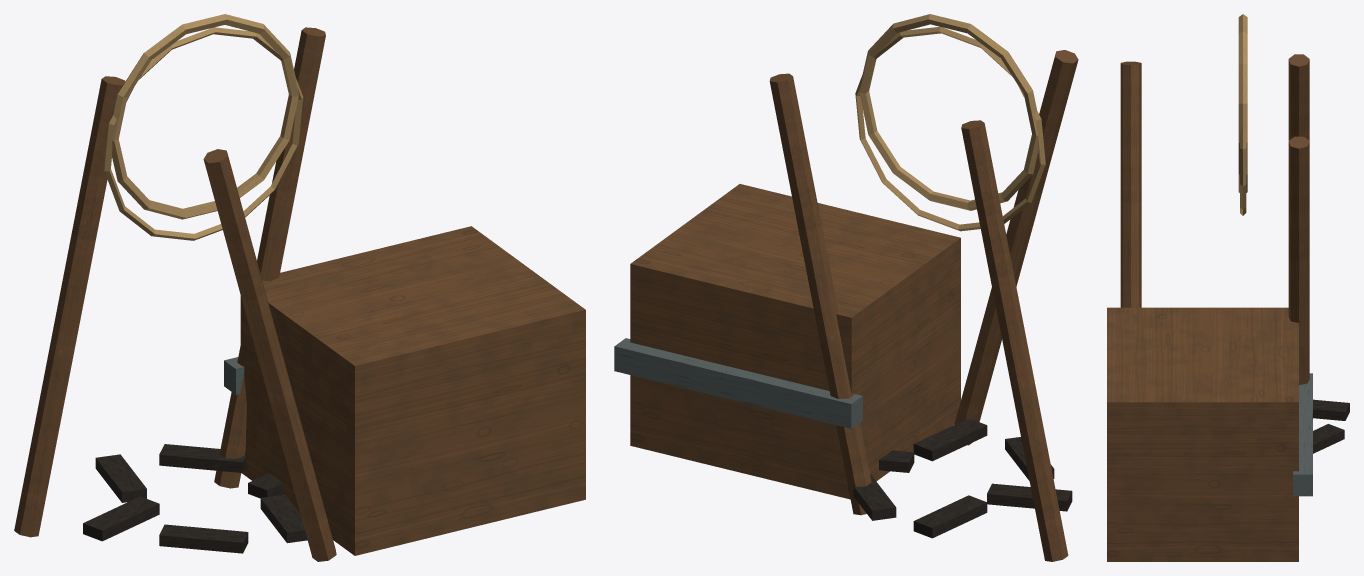
Rendered from en-017_cooking_corner_set__crate.obj.
3 renders of one model, left to right at view 1: azimuth 30°, elevation 25°; view 2: azimuth 150°, elevation 25°; view 3: azimuth 270°, elevation 25°, orthographic. The views are drawn at different scales.
Parts seen in each view (by area): view 1: en-017_cooking_corner_set__crate; view 2: en-017_cooking_corner_set__crate; view 3: en-017_cooking_corner_set__crate.
Boxes of the visible parts, bbox=[...] form: en-017_cooking_corner_set__crate: bbox=[14, 14, 585, 561]; en-017_cooking_corner_set__crate: bbox=[614, 14, 1078, 561]; en-017_cooking_corner_set__crate: bbox=[1107, 14, 1349, 561].
Bounding box in the file's own units: 1.12 × 1.17 × 0.607.
4 materials, 4 textured.
